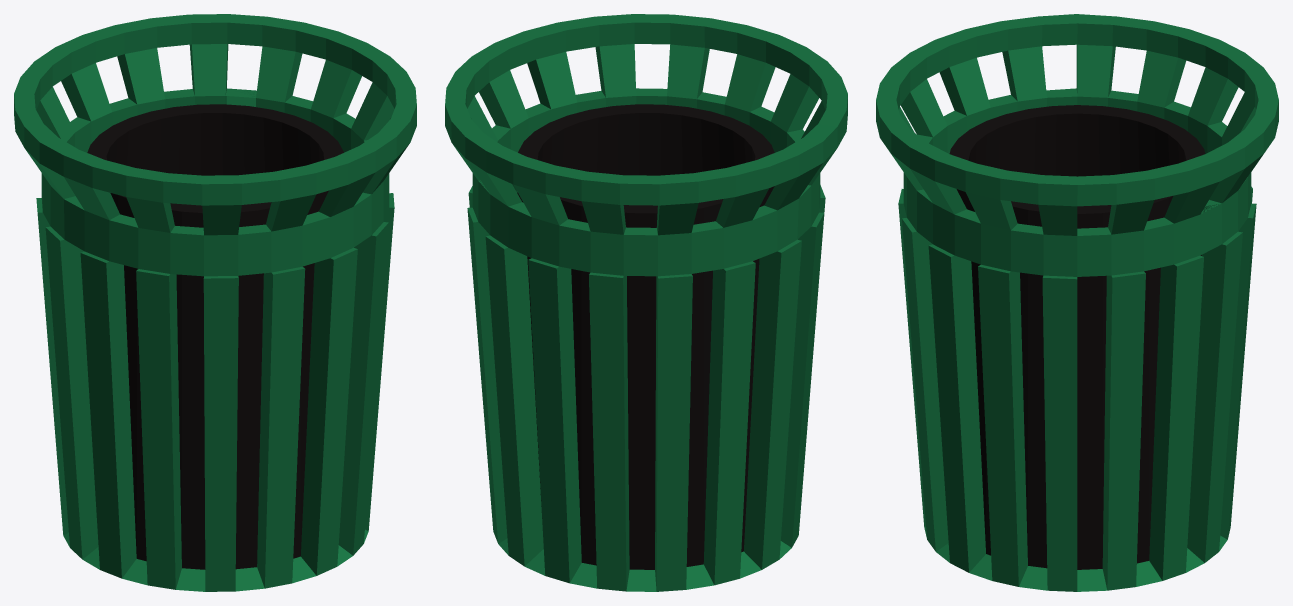
The model's file is TrashCan.fbx.
3 renders of one model, left to right at view 1: azimuth 30°, elevation 25°; view 2: azimuth 150°, elevation 25°; view 3: azimuth 270°, elevation 25°, orthographic.
Visible parts, largest first — view 1: Cylinder; view 2: Cylinder; view 3: Cylinder.
Boxes of the visible parts, x1,y1,x2,y2 form: Cylinder: (14,14,416,591); Cylinder: (445,14,847,591); Cylinder: (876,14,1278,591).
Bounding box in the file's own units: 226 × 263 × 225.
